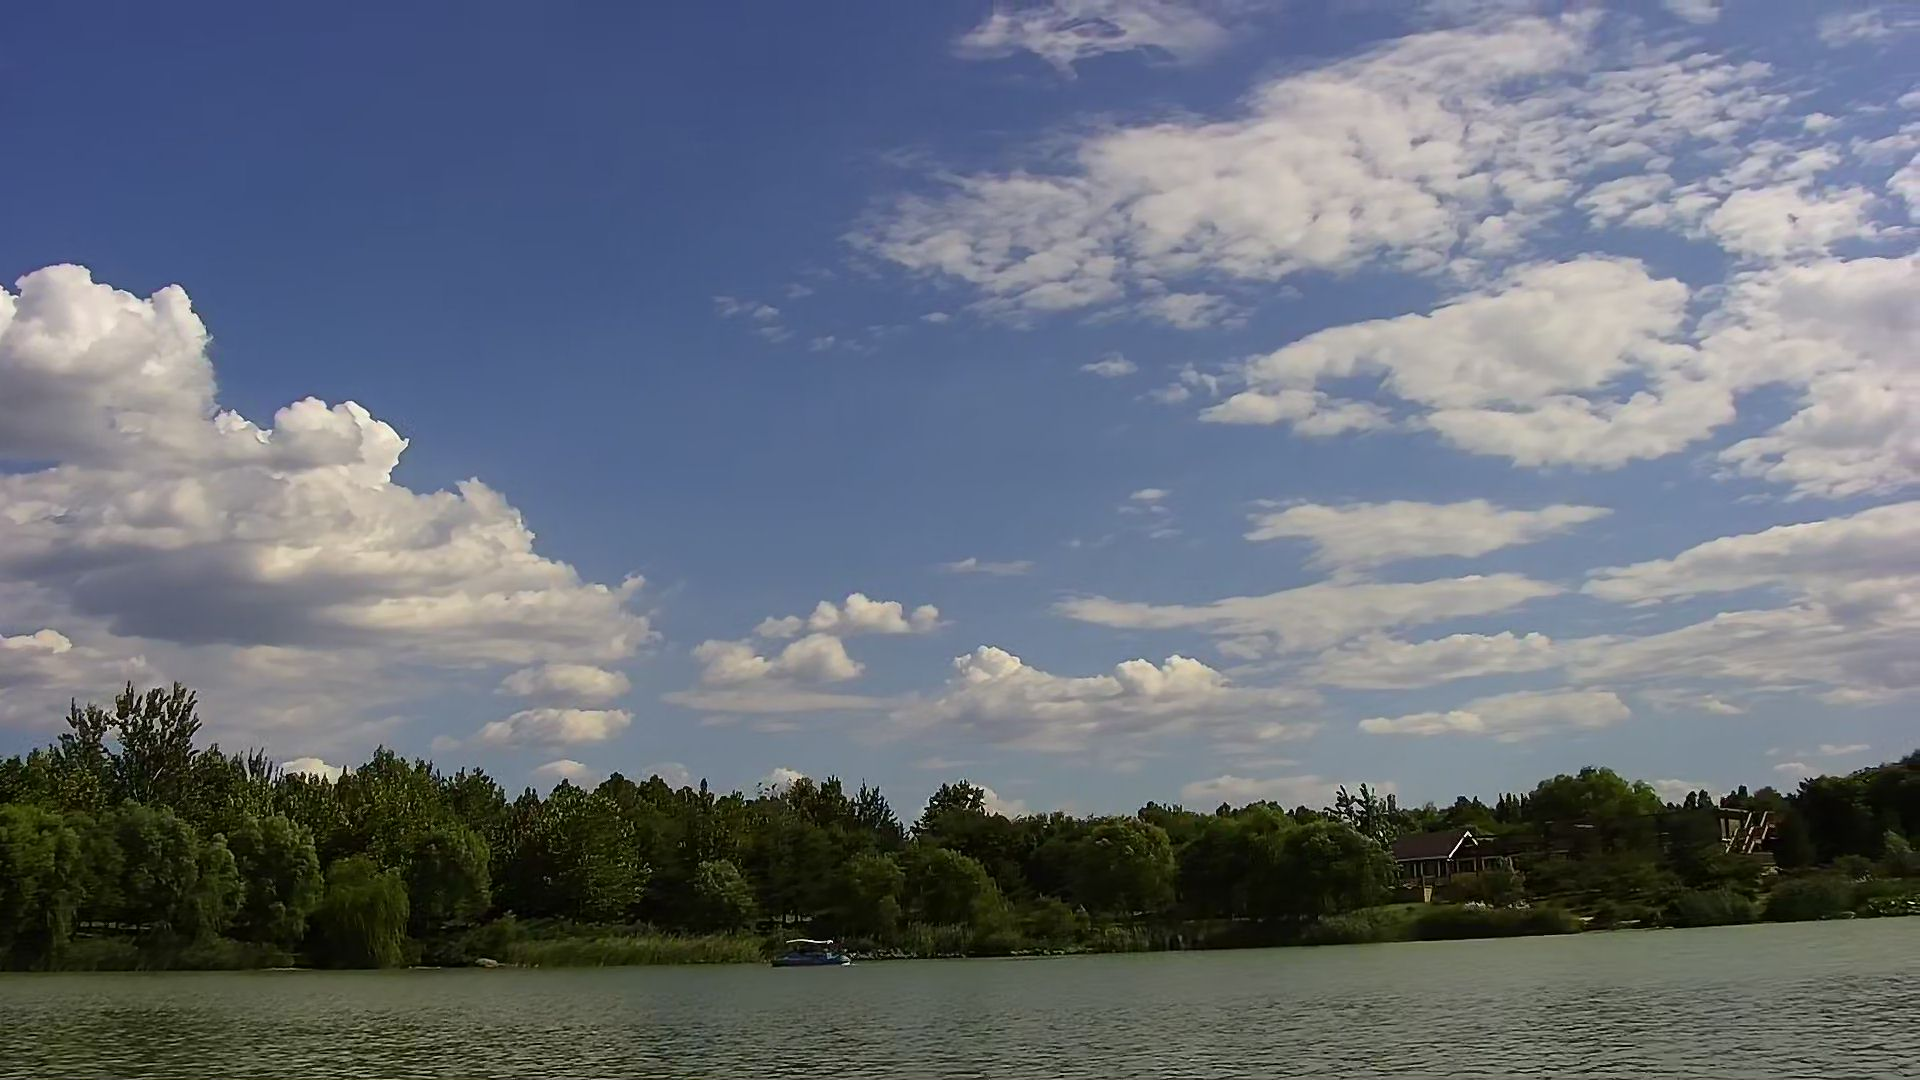boat: (771, 934, 862, 973)
